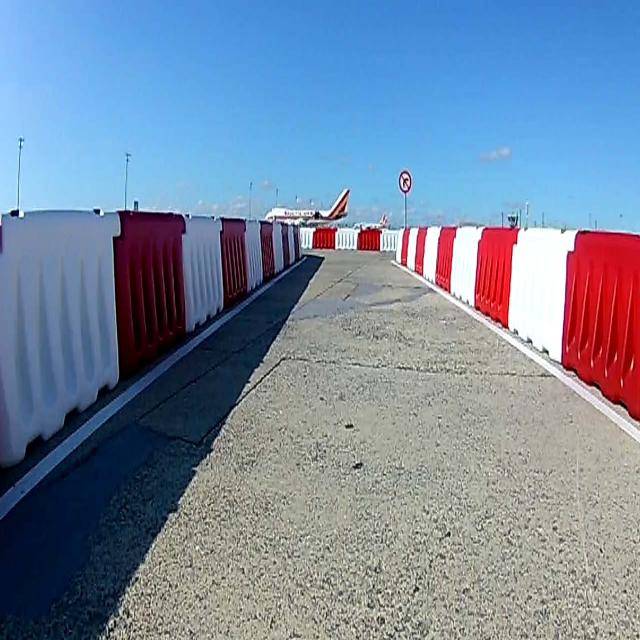sagadonulmez: (398, 171, 412, 193)
